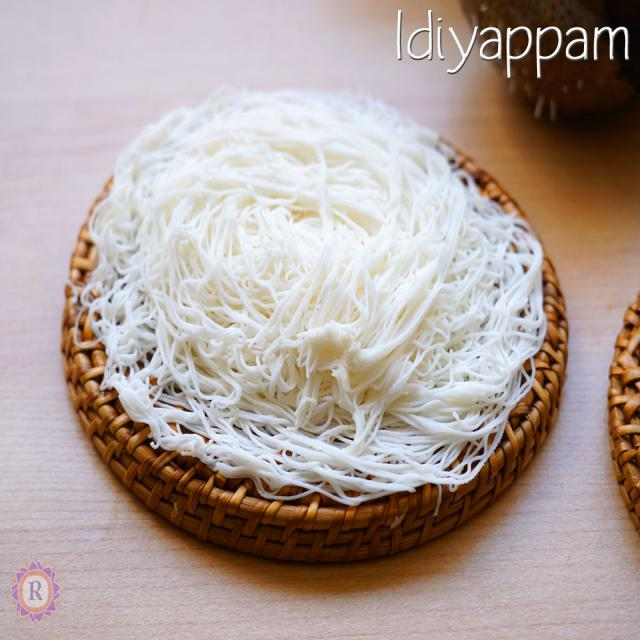IDIYAPPAM: (84, 90, 550, 499)
